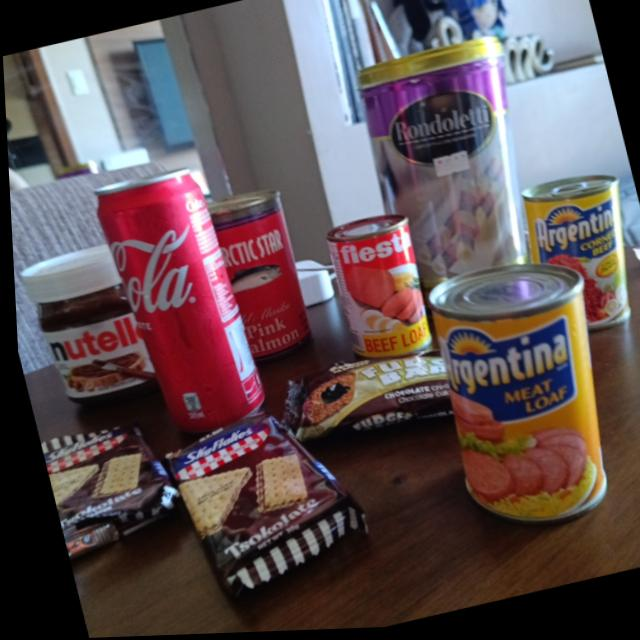coke: (87, 161, 267, 447)
